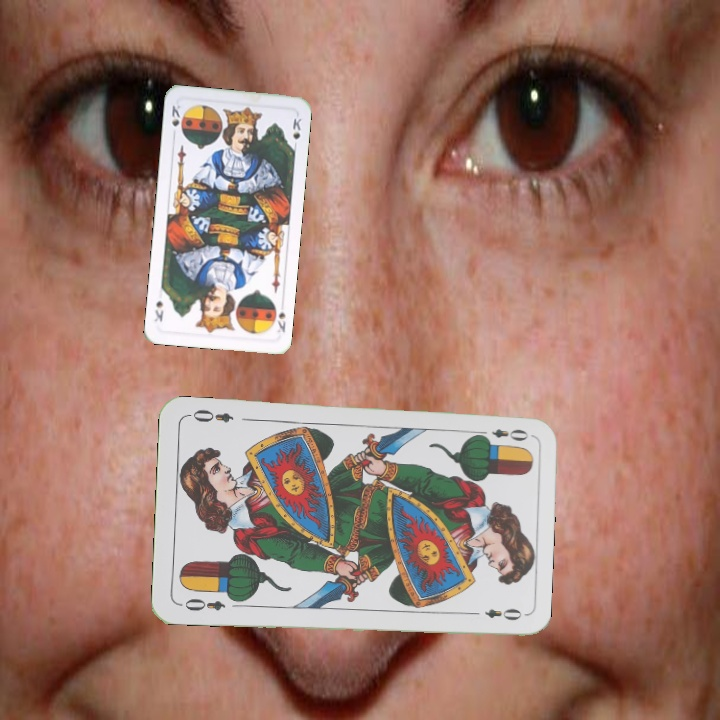EO: (473, 424, 531, 444), (181, 594, 228, 614)
SK: (168, 101, 183, 140), (273, 308, 288, 335)
